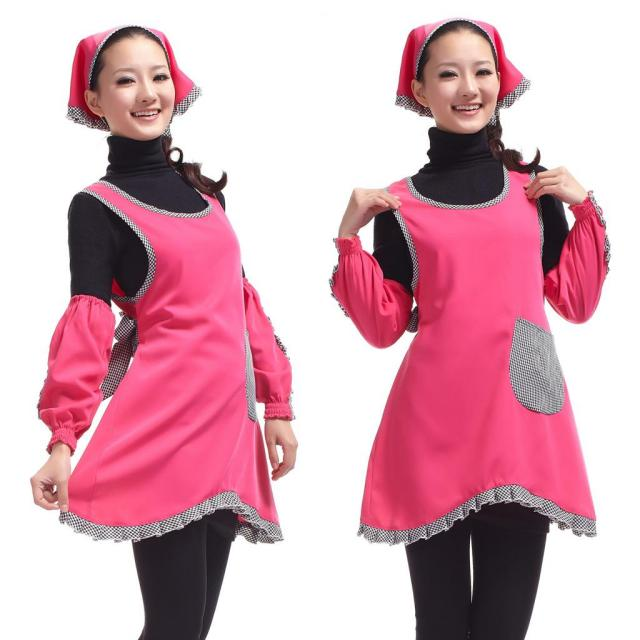nomask: (99, 38, 176, 140), (424, 31, 498, 132)
